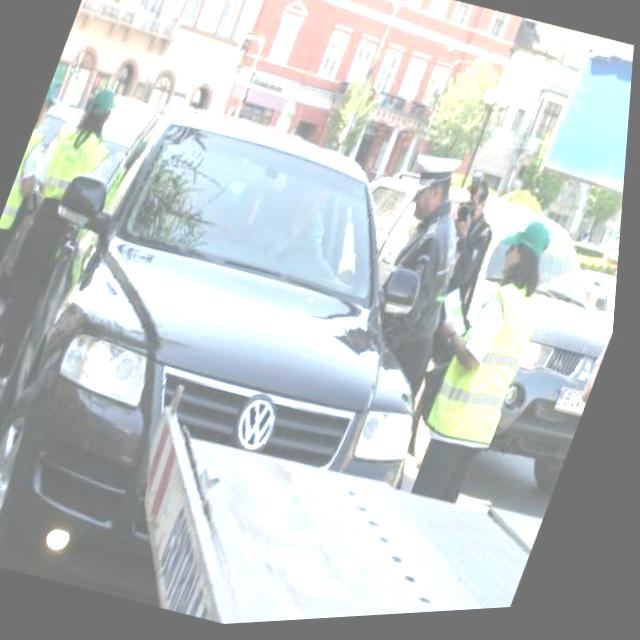license_plate: (560, 393, 595, 424)
